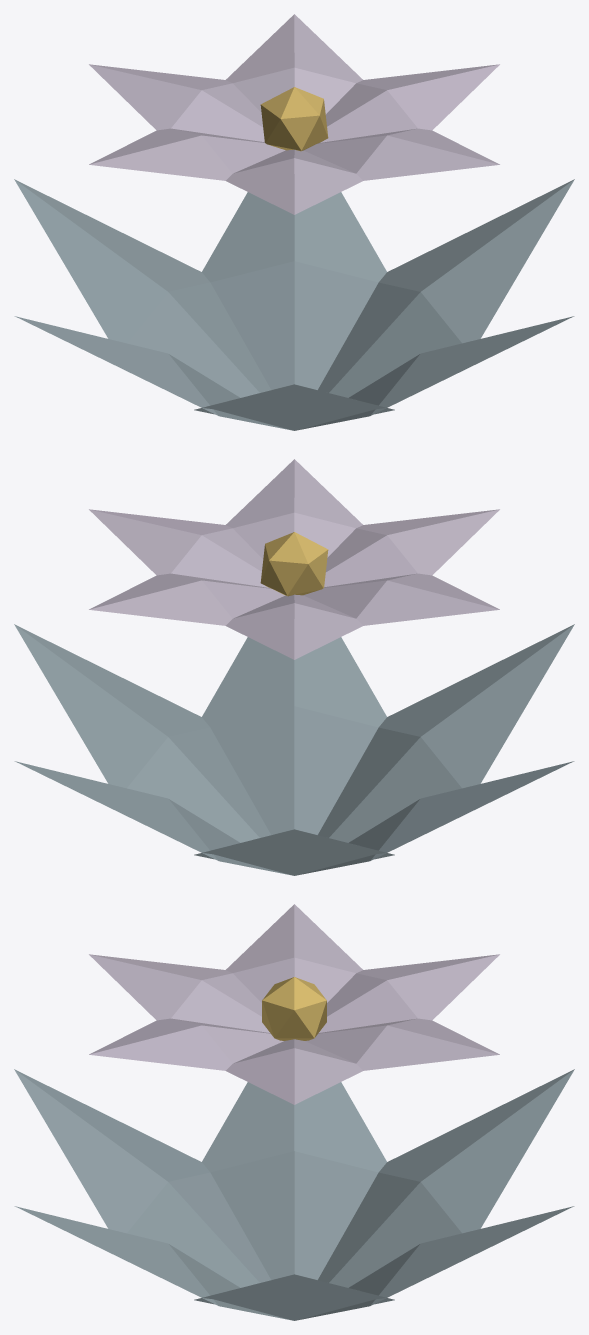
Rendered from map-exclusive-v3__grave_09.glb.
3 renders of one model, top to bottom at view 1: azimuth 30°, elevation 25°; view 2: azimuth 150°, elevation 25°; view 3: azimuth 270°, elevation 25°, orthographic.
Visible parts, largest first — view 1: grave_09; view 2: grave_09; view 3: grave_09.
Part boxes in pixels (<box>): grave_09: <box>14,14,574,430</box>; grave_09: <box>14,459,574,875</box>; grave_09: <box>14,904,574,1320</box>.
Size of the model in its own units: 1.28 by 0.7502 by 1.11.
